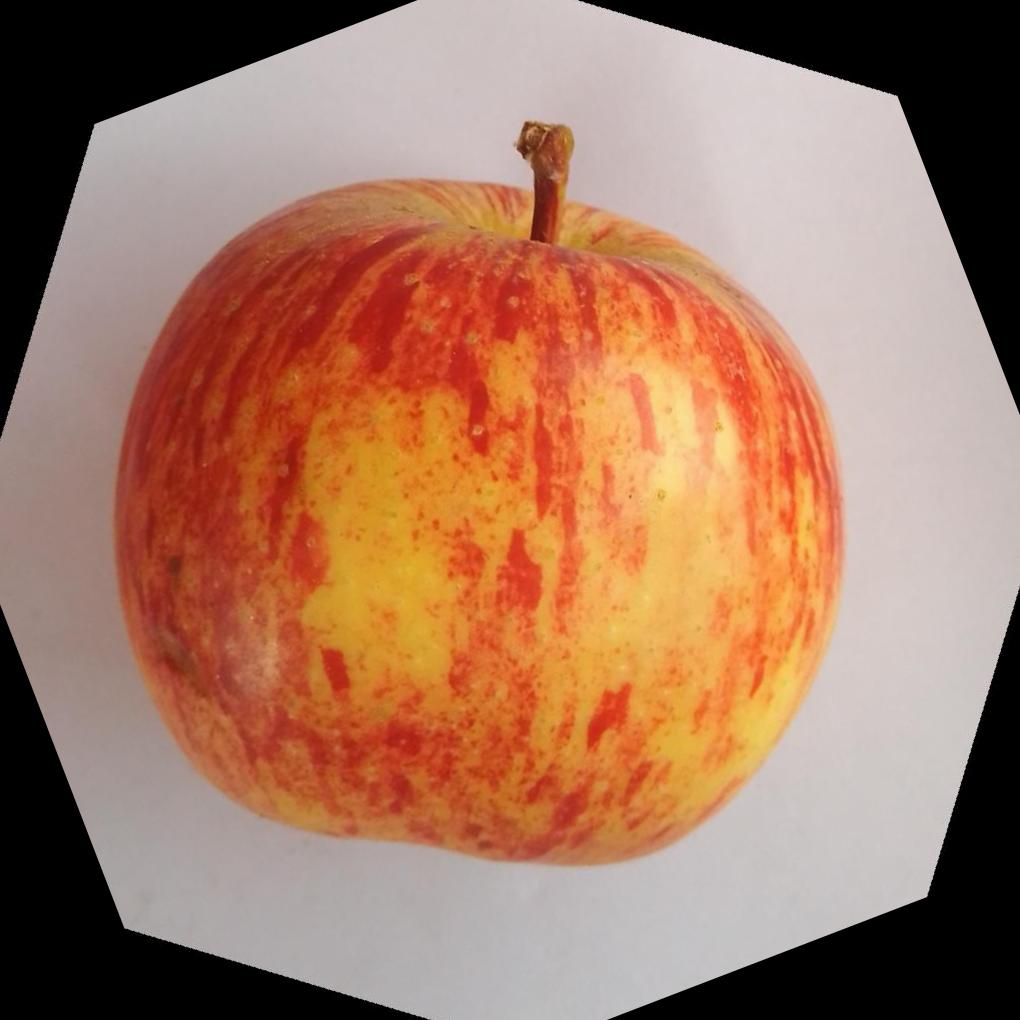FreshGuava: (109, 121, 847, 874)
